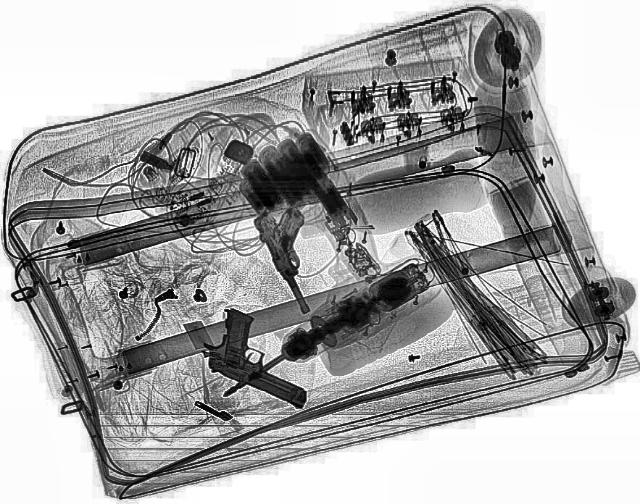Gun: (187, 302, 346, 408), (247, 203, 347, 315)
